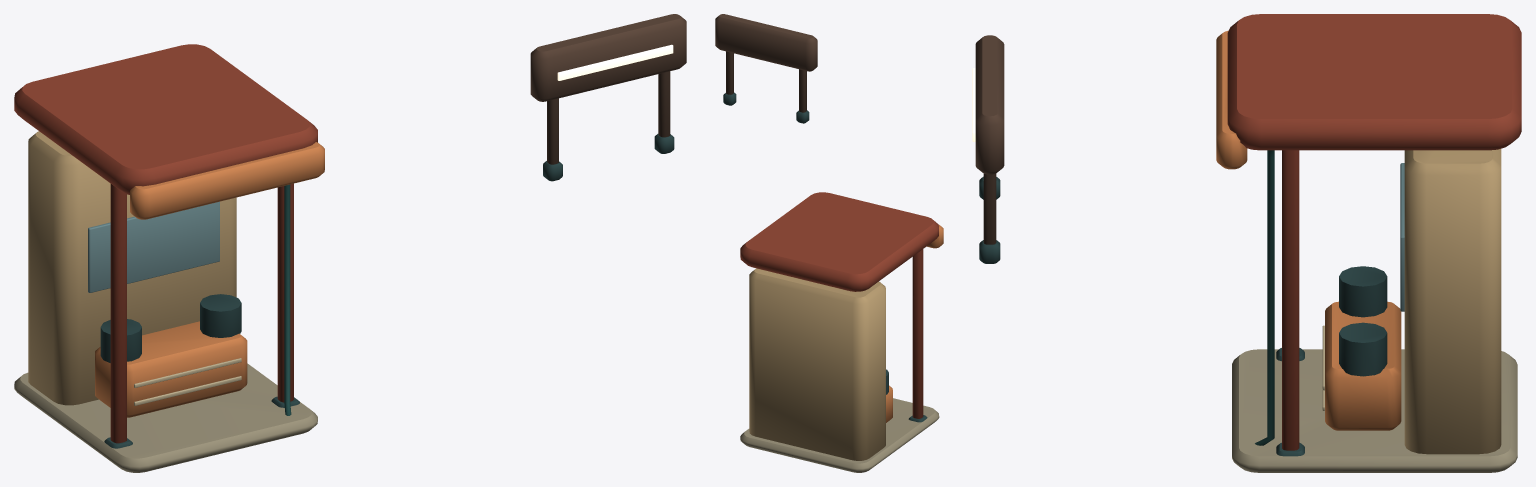
The model's file is valley_workshop_4.glb.
The picture shows the model from 3 angles, left to right: view 1: azimuth 30°, elevation 25°; view 2: azimuth 150°, elevation 25°; view 3: azimuth 270°, elevation 25°; orthographic projection. The views are drawn at different scales.
Visible parts, largest first — view 1: Workshop4; view 2: Workshop4; view 3: Workshop4.
Boxes of the visible parts, box(x1,y1,x2,y2) form: Workshop4: box(14, 14, 686, 472); Workshop4: box(715, 14, 943, 472); Workshop4: box(972, 14, 1521, 472).
Size of the model in its own units: 5.28 by 4.8 by 4.77.
